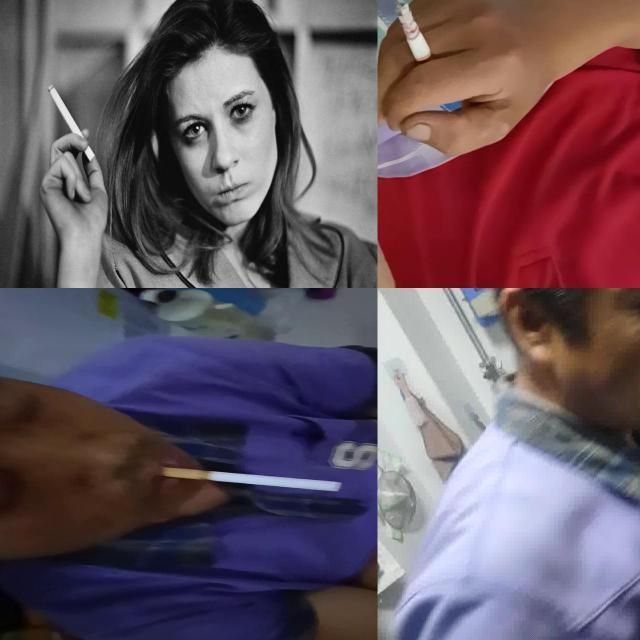smoke: (157, 465, 346, 493), (50, 85, 94, 162), (396, 3, 438, 81)
